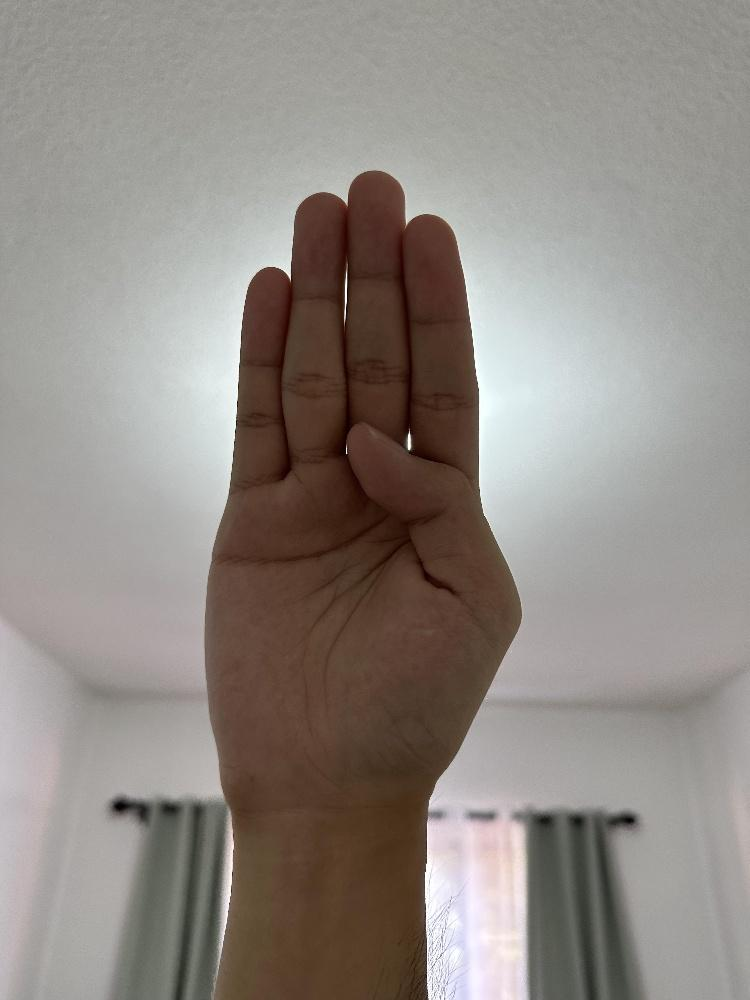b: (200, 167, 525, 821)
